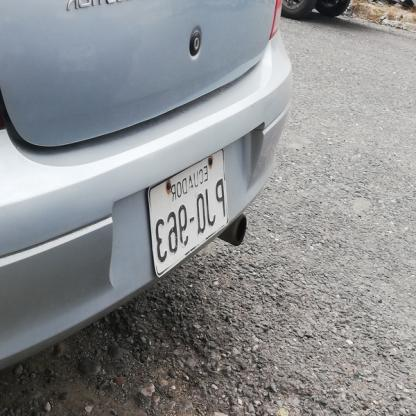Placa: (145, 145, 234, 283)
